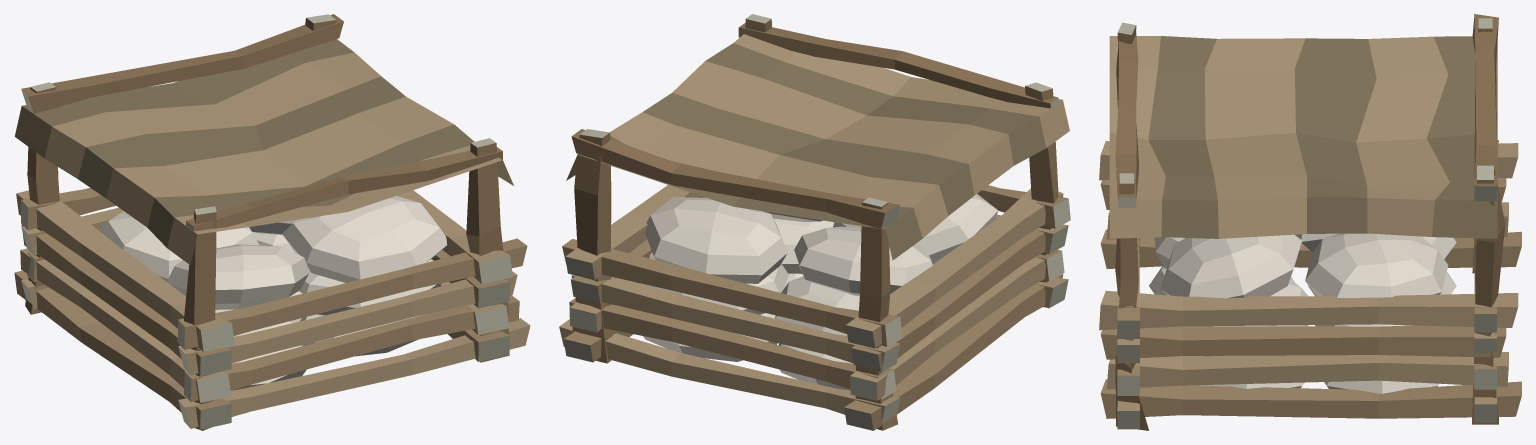
File: Model_Forest_3x3B.fbx
3 views of the same model, side by side, from view 1: azimuth 30°, elevation 25°; view 2: azimuth 150°, elevation 25°; view 3: azimuth 270°, elevation 25° (orthographic). The views are drawn at different scales.
Visible parts, largest first — view 1: Model_Frost_3x3B; view 2: Model_Frost_3x3B; view 3: Model_Frost_3x3B.
Part boxes in pixels (box(x1,y1,x2,y2)): Model_Frost_3x3B: box(14, 14, 530, 430); Model_Frost_3x3B: box(559, 14, 1070, 430); Model_Frost_3x3B: box(1099, 14, 1521, 430).
Bounding box in the file's own units: 614 × 392 × 587.
1 material, 1 textured.
